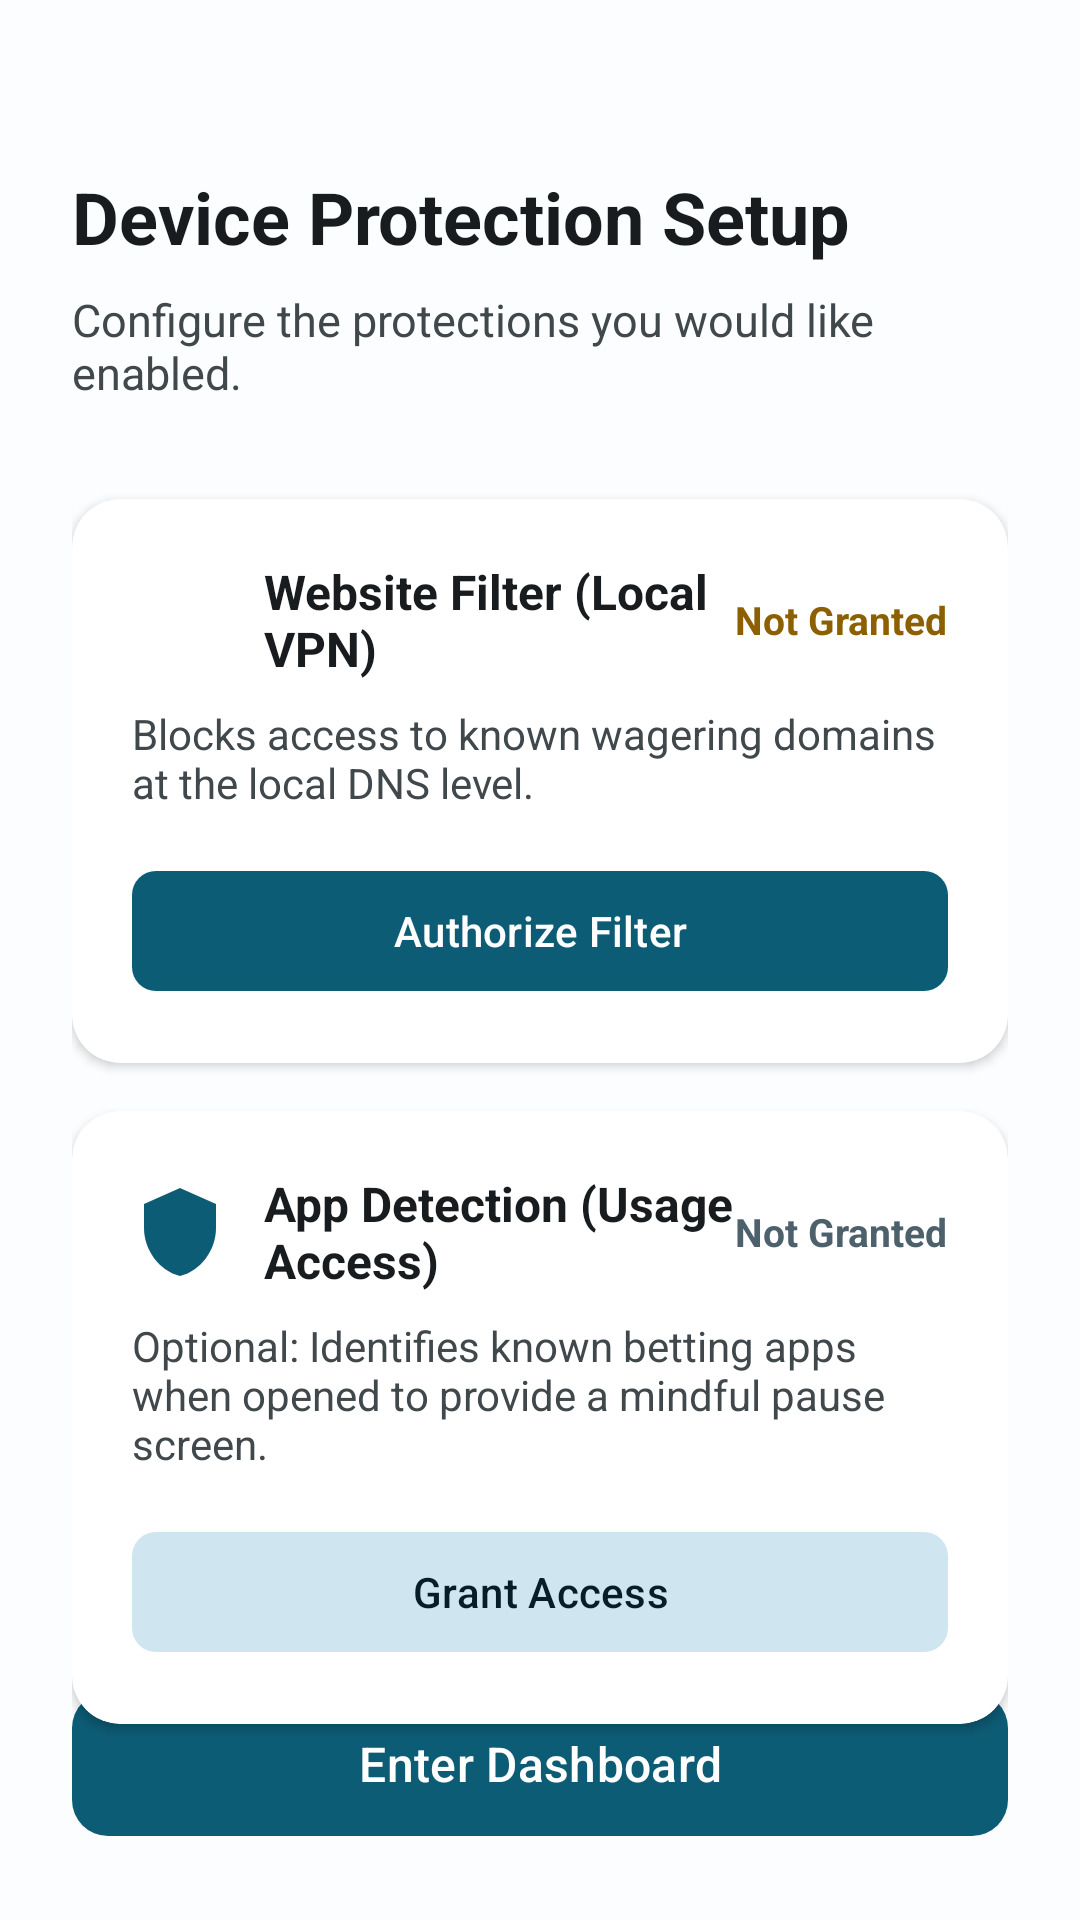

Locate icon controls on the screen. Image size 1080px x 1920px, boxes as (x1, y1, x2, y2).
shield: (144, 1188, 216, 1276)
